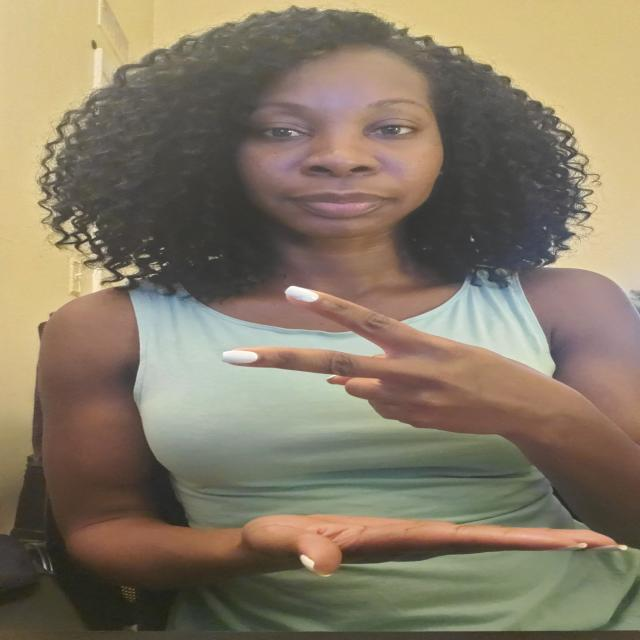Scissors: (217, 280, 556, 456)
